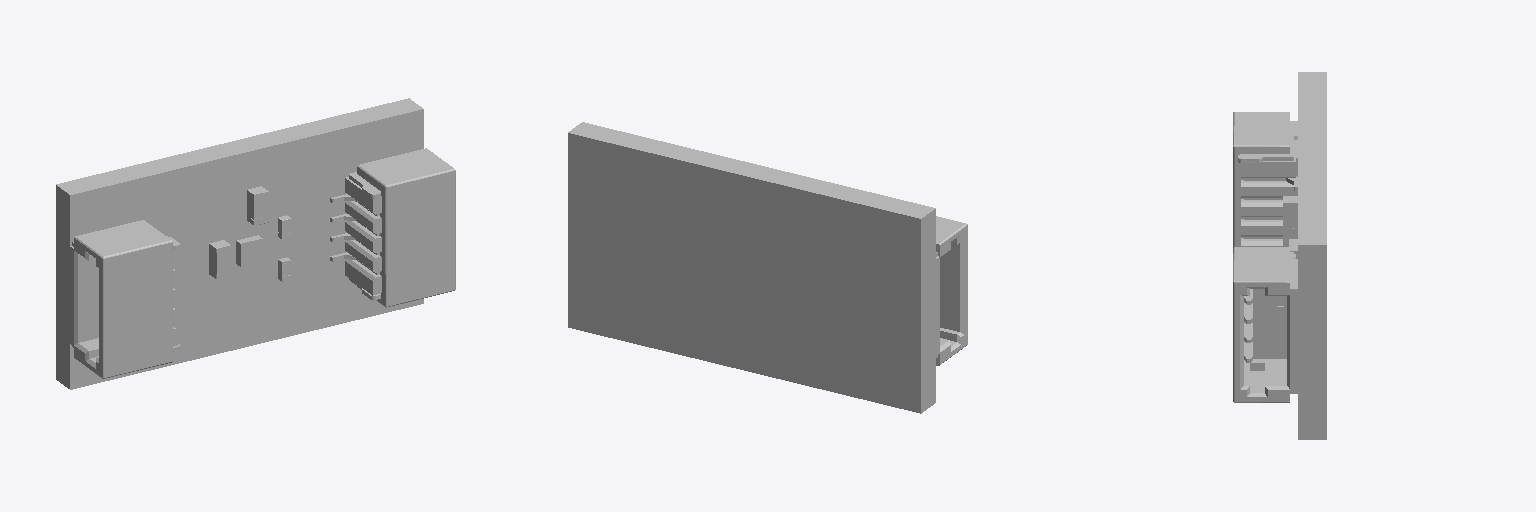
Rendered from OBJ_PCB_QMC6310-BRKOUT.obj.
The picture shows the model from 3 angles: view 1: azimuth 30°, elevation 25°; view 2: azimuth 150°, elevation 25°; view 3: azimuth 270°, elevation 25°; orthographic projection.
Parts seen in each view (by area): view 1: Object.1; view 2: Object.1; view 3: Object.1.
Part boxes in pixels (left/top/right/bottom): Object.1: left=56, top=98, right=455, bottom=389; Object.1: left=568, top=122, right=967, bottom=413; Object.1: left=1233, top=72, right=1326, bottom=439.
Size of the model in its own units: 19.3 by 10.15 by 4.46.